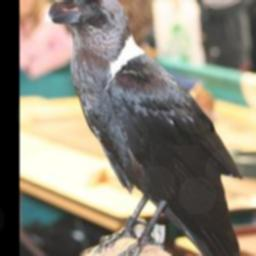Crow: (43, 0, 246, 256)
